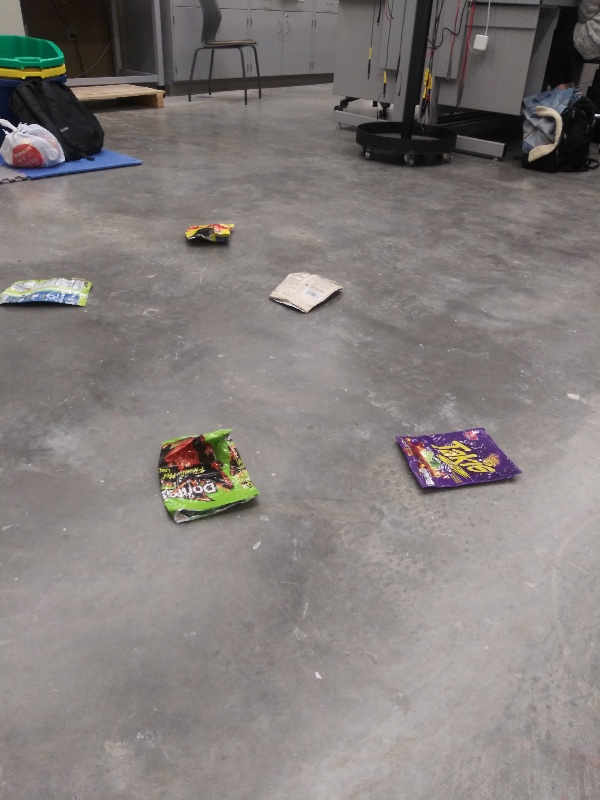bag: (151, 422, 263, 529), (389, 425, 525, 501), (262, 270, 348, 317), (1, 270, 99, 309), (180, 216, 240, 248)
